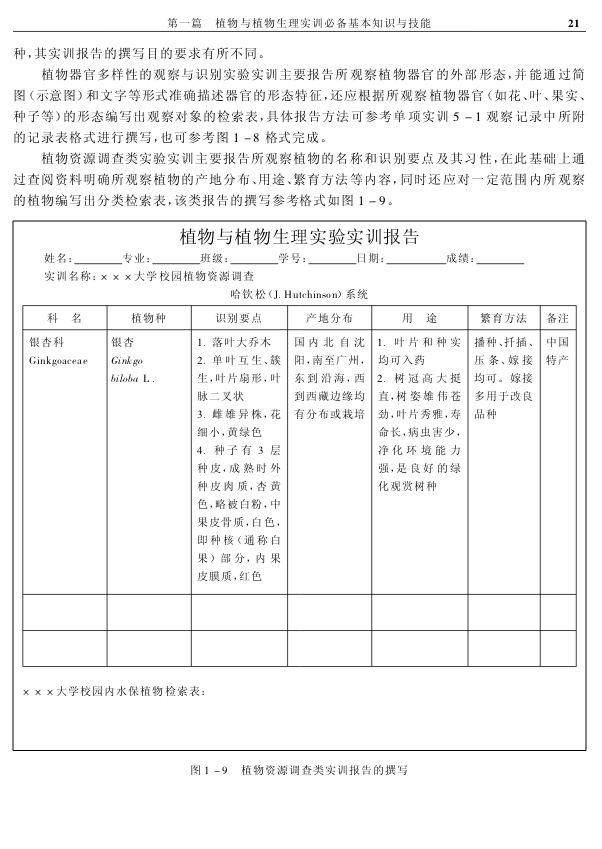table: (21, 304, 577, 667)
